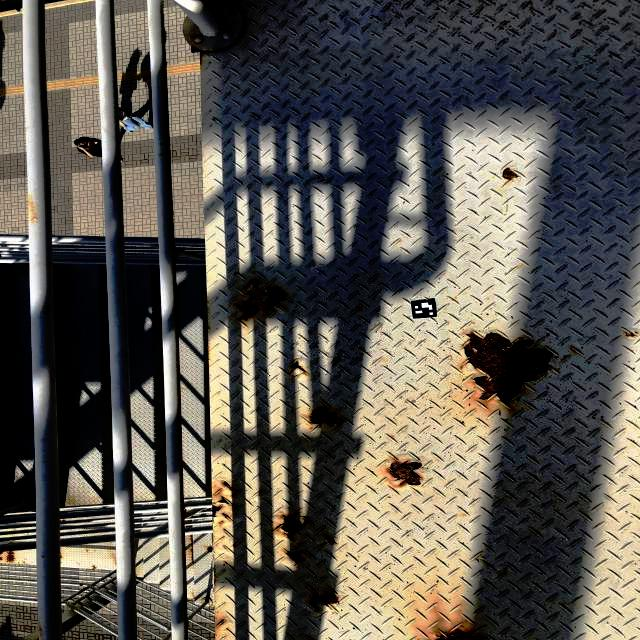Corrosion: (464, 332, 554, 407), (387, 458, 423, 488), (254, 286, 288, 313), (274, 515, 304, 541), (308, 406, 345, 426), (432, 628, 487, 640), (309, 591, 340, 612), (236, 292, 259, 319), (284, 551, 304, 565), (500, 167, 519, 181), (289, 360, 305, 373), (212, 505, 223, 520), (189, 535, 194, 565), (246, 278, 260, 288), (6, 551, 15, 563), (324, 534, 335, 543), (222, 481, 232, 490), (218, 497, 228, 503), (626, 332, 635, 337), (222, 513, 230, 518), (217, 622, 225, 627), (207, 546, 212, 552), (185, 525, 192, 528), (0, 551, 4, 555), (634, 331, 639, 334), (185, 520, 192, 522), (0, 557, 4, 560), (92, 566, 96, 569)
